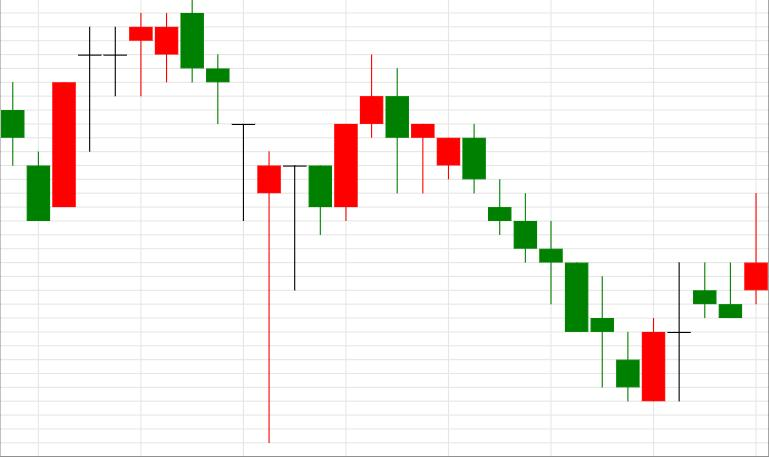bullish_engulfing_rise: (463, 124, 665, 401)
